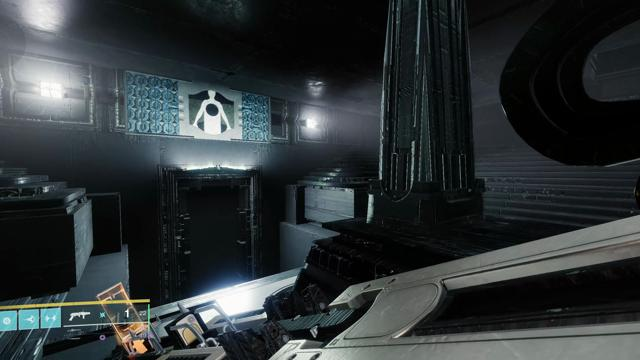grief: (189, 90, 235, 135)
